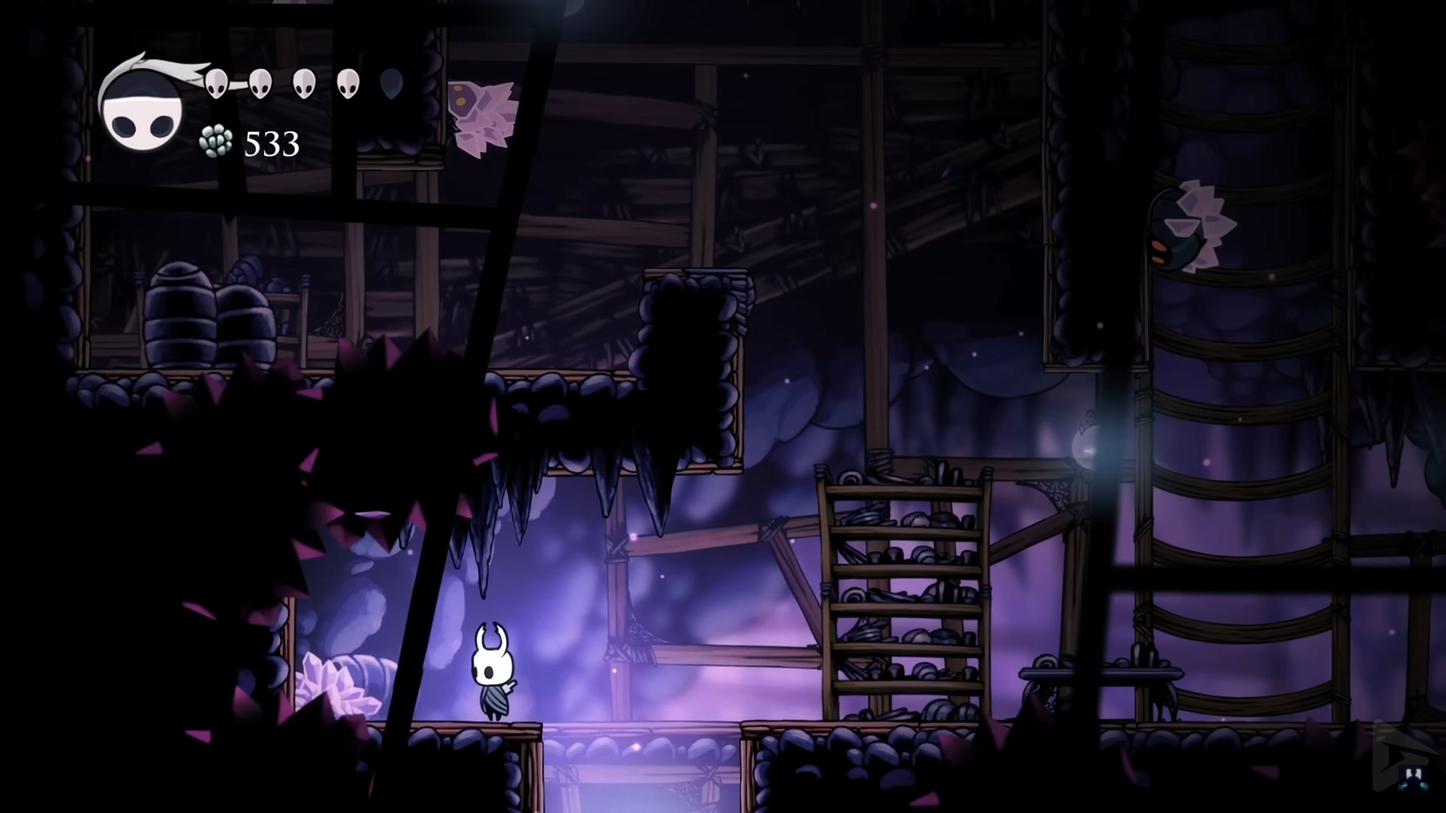HK: (464, 620, 523, 723)
